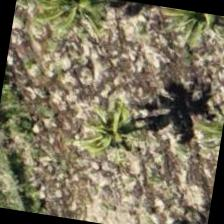Kelapa_Sawit: (62, 83, 165, 186), (25, 0, 123, 54), (147, 5, 223, 67)
